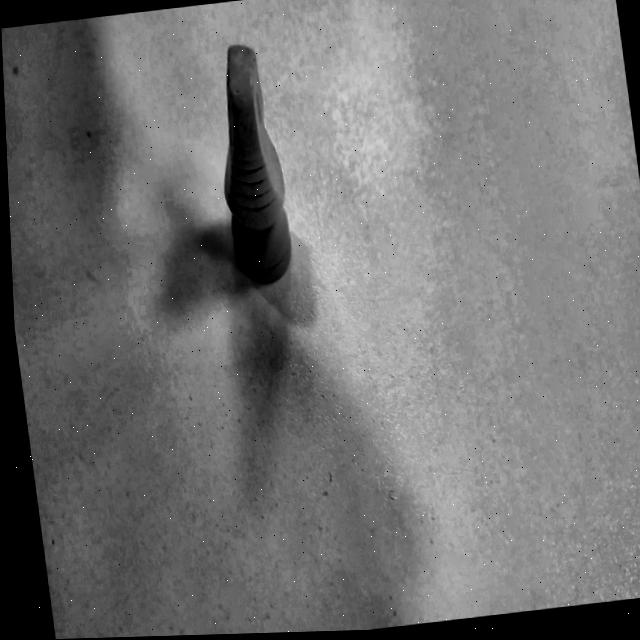white-knight: (174, 2, 320, 314)
